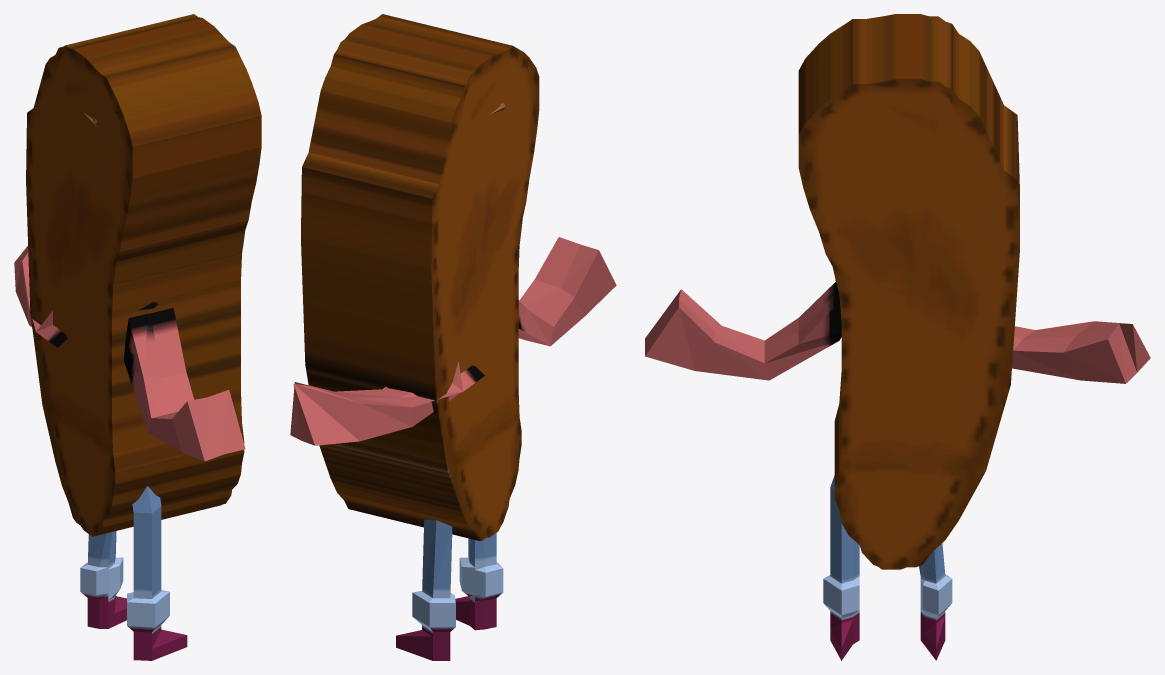
Rendered from KvcLace.glb.
3 views of the same model, side by side, from view 1: azimuth 30°, elevation 25°; view 2: azimuth 150°, elevation 25°; view 3: azimuth 270°, elevation 25° (orthographic). The views are drawn at different scales.
Parts seen in each view (by area): view 1: KvcLace; view 2: KvcLace; view 3: KvcLace.
Part boxes in pixels (x1,y1,x2,y2): KvcLace: (14, 14, 261, 660); KvcLace: (290, 14, 616, 660); KvcLace: (645, 14, 1150, 660).
Bounding box in the file's own units: 23.07 × 92.86 × 69.88.
1 material, 1 textured.
